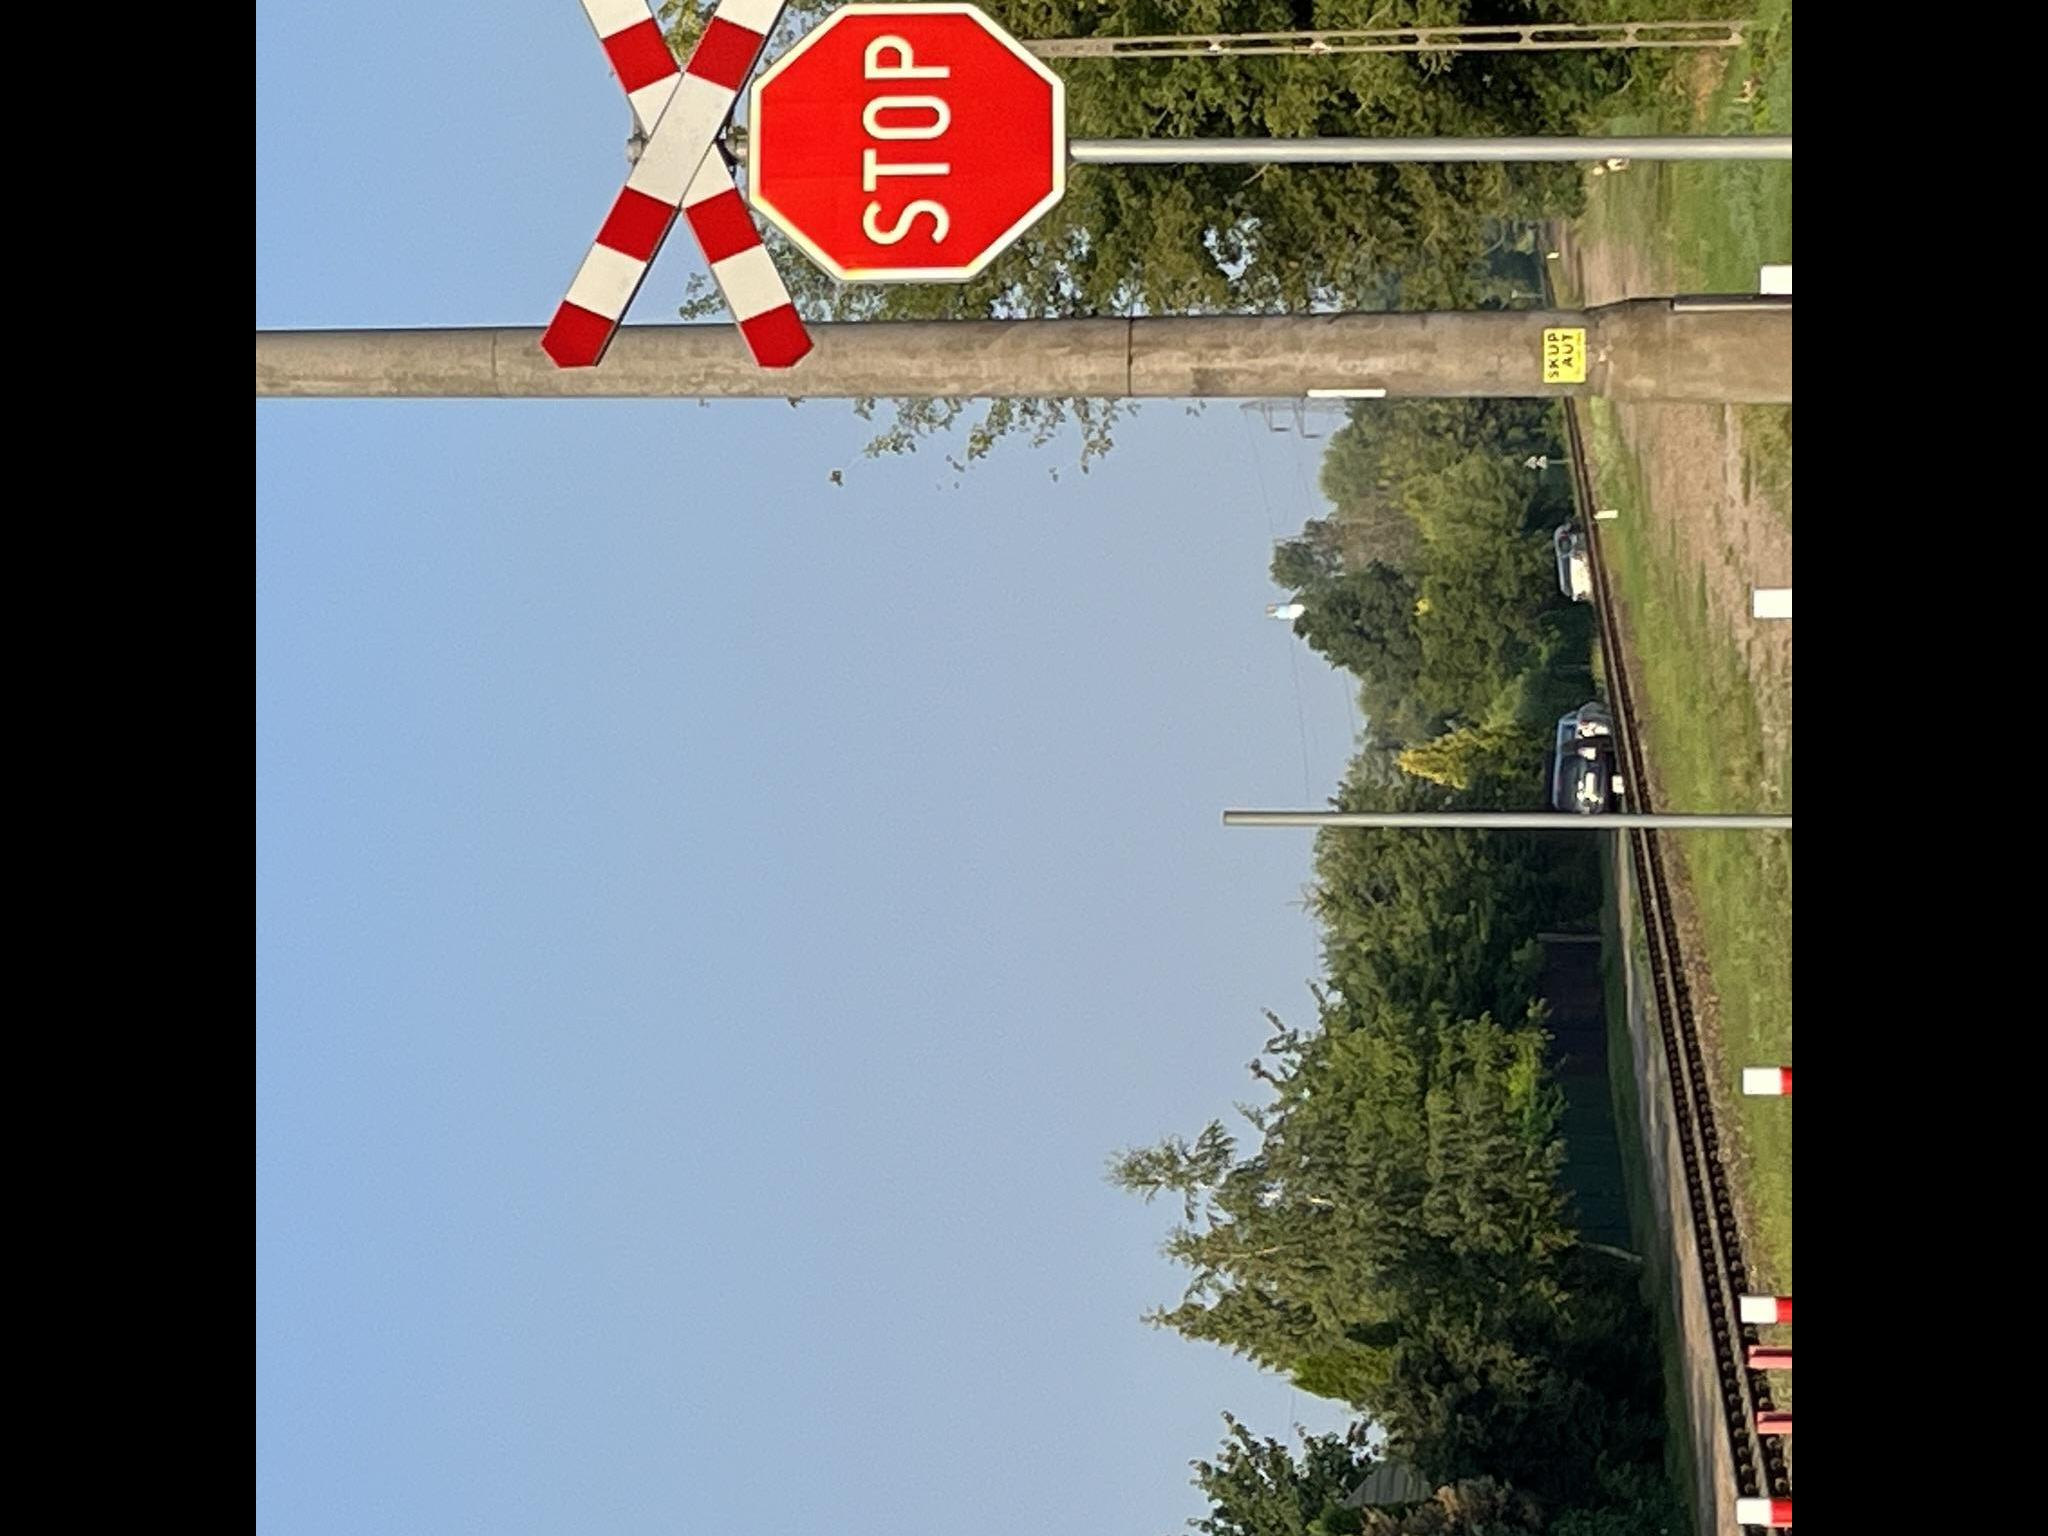prohibitory: (747, 0, 1068, 279)
